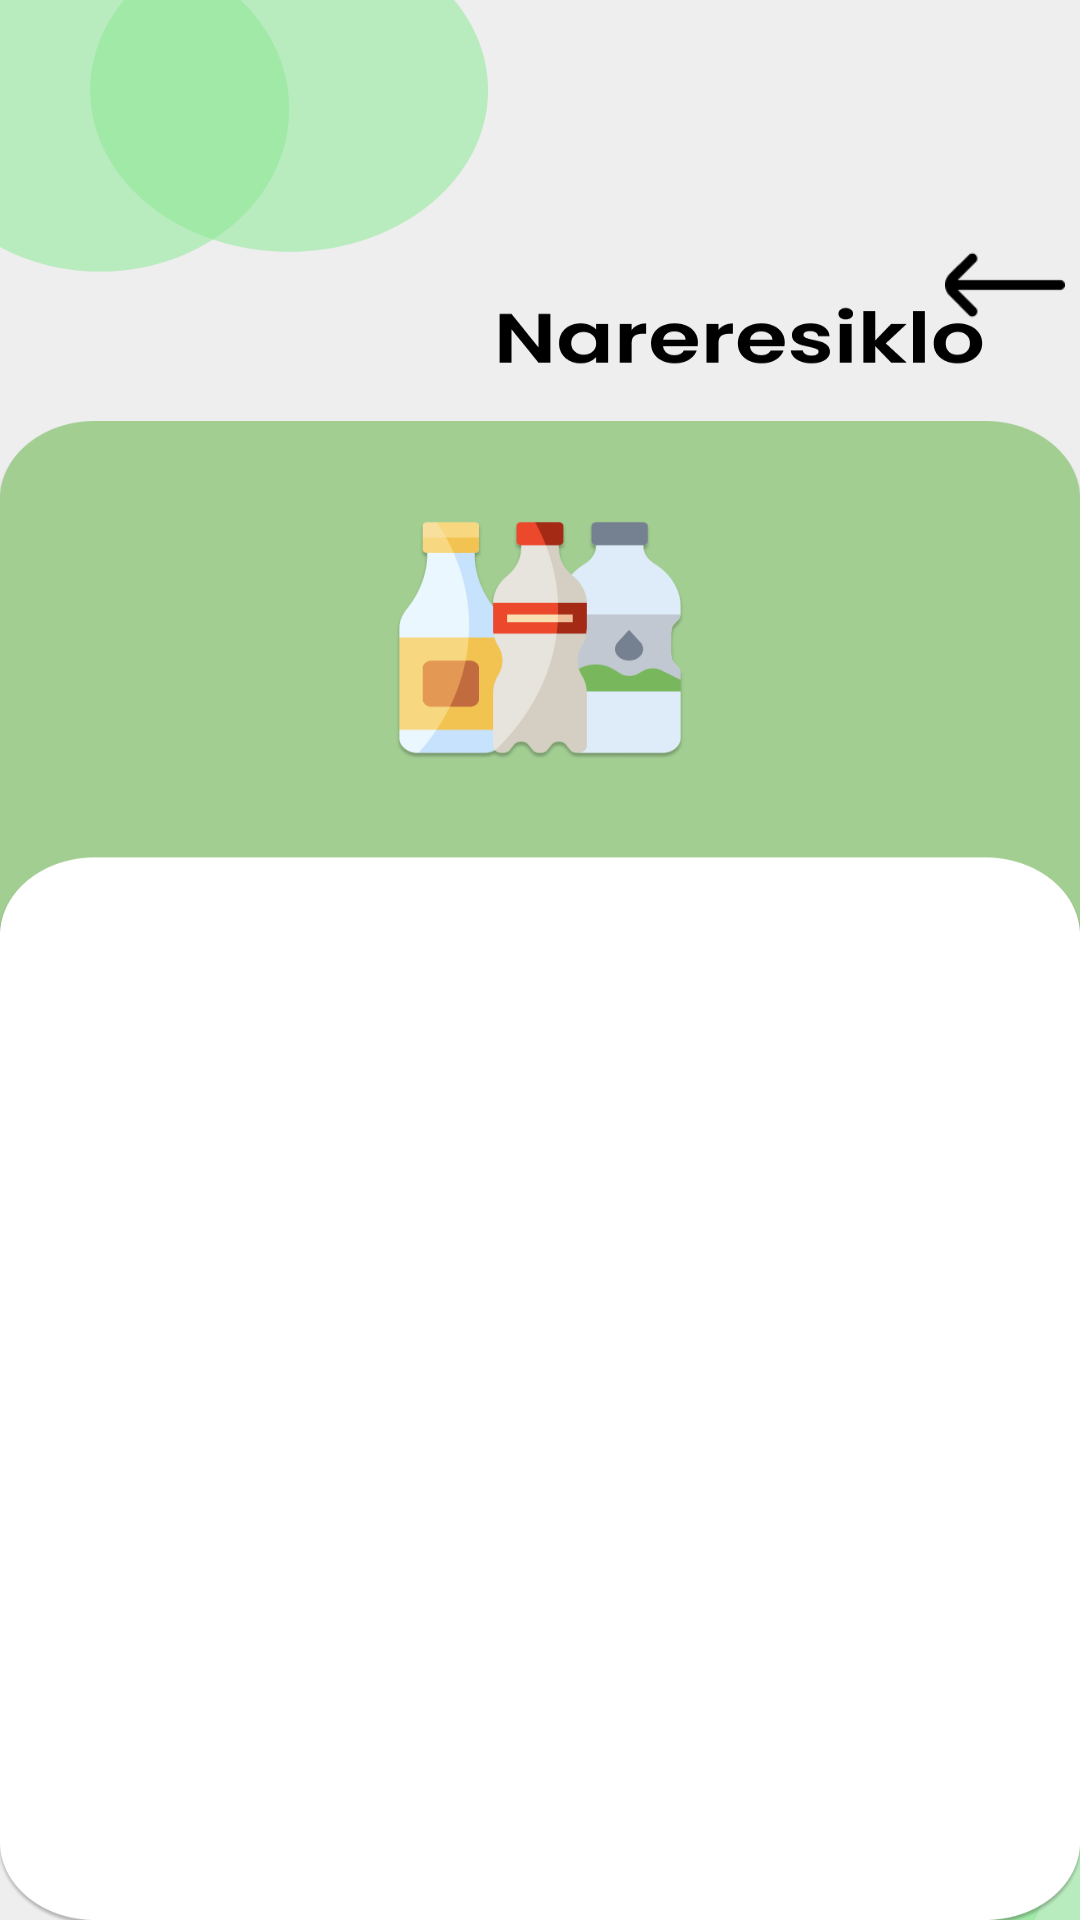

Icon bounding boxes for this 1080 × 1920 phone screenshot, format (x1, y1, x2, y2):
Back: (945, 253, 1065, 317)
